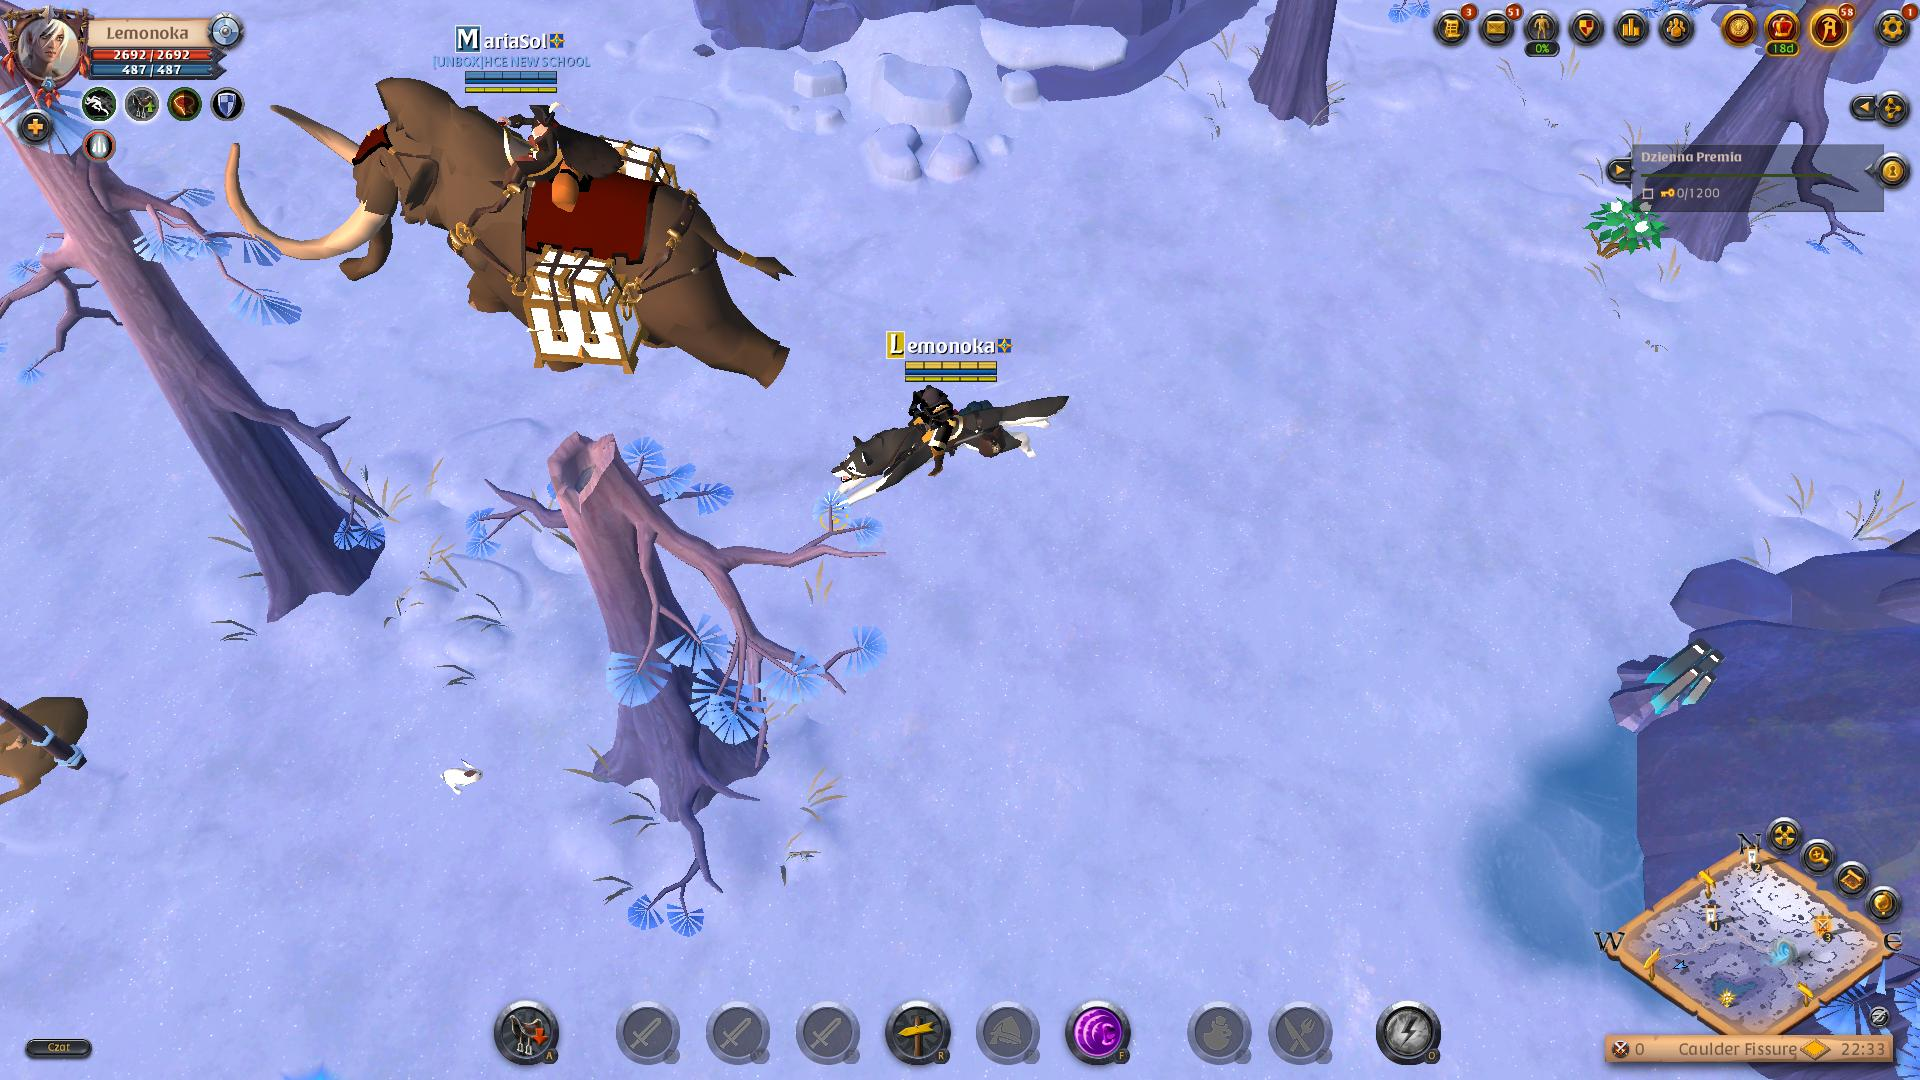ore tier 4: (1609, 640, 1722, 733)
